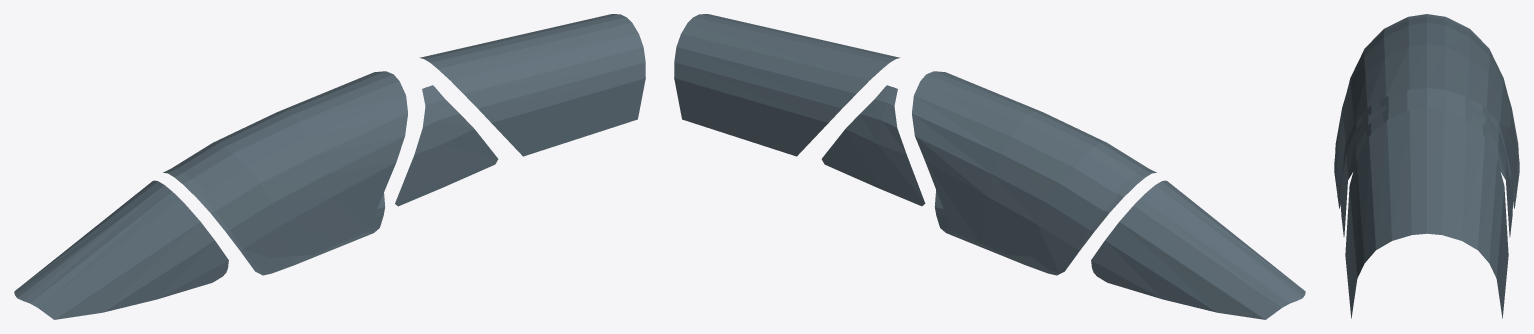
The model's file is m2000.glass.glb.
3 renders of one model, left to right at view 1: azimuth 30°, elevation 25°; view 2: azimuth 150°, elevation 25°; view 3: azimuth 270°, elevation 25°, orthographic. The views are drawn at different scales.
Visible parts, largest first — view 1: glass; view 2: glass; view 3: glass.
Part boxes in pixels (x1,y1,x2,y2): glass: [14, 14, 645, 319]; glass: [674, 14, 1305, 319]; glass: [1334, 14, 1519, 318].
Bounding box in the file's own units: 3.82 × 0.8808 × 0.7838.
